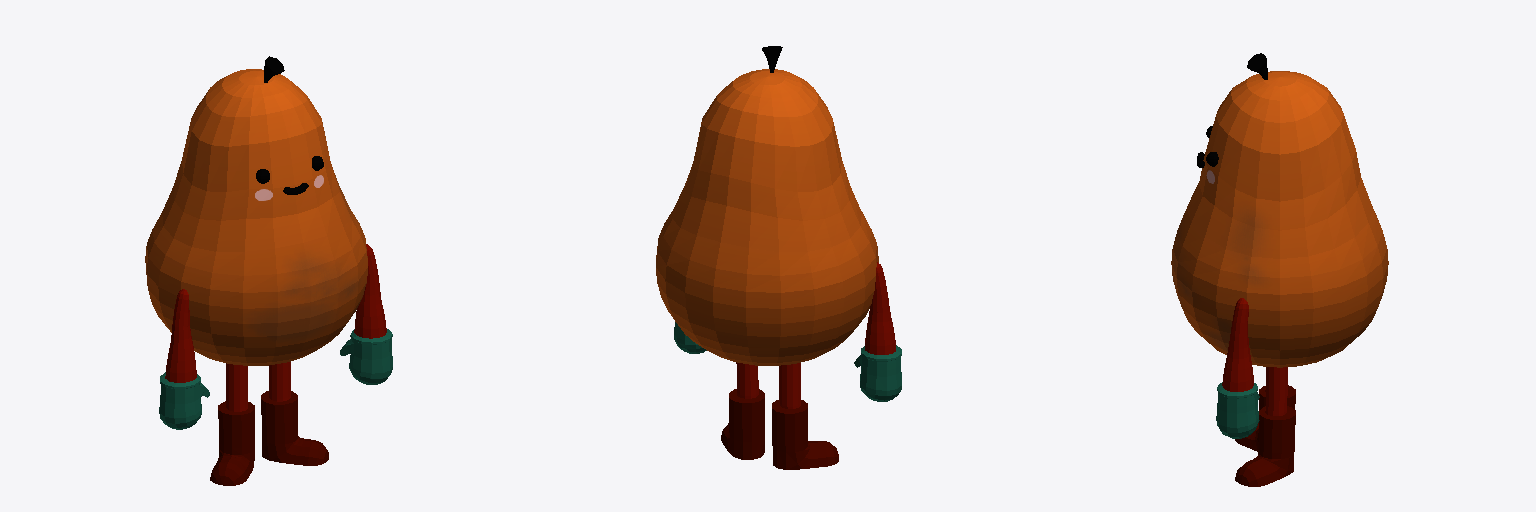
The picture shows the model from 3 angles: view 1: azimuth 30°, elevation 25°; view 2: azimuth 150°, elevation 25°; view 3: azimuth 270°, elevation 25°; orthographic projection.
Visible parts, largest first — view 1: body; view 2: body; view 3: body.
Part boxes in pixels (x1,y1,x2,y2): body: (145,69,392,485); body: (656,69,901,469); body: (1171,71,1388,486).
Size of the model in its own units: 2.02 by 3.47 by 1.68.
5 materials, 1 textured.